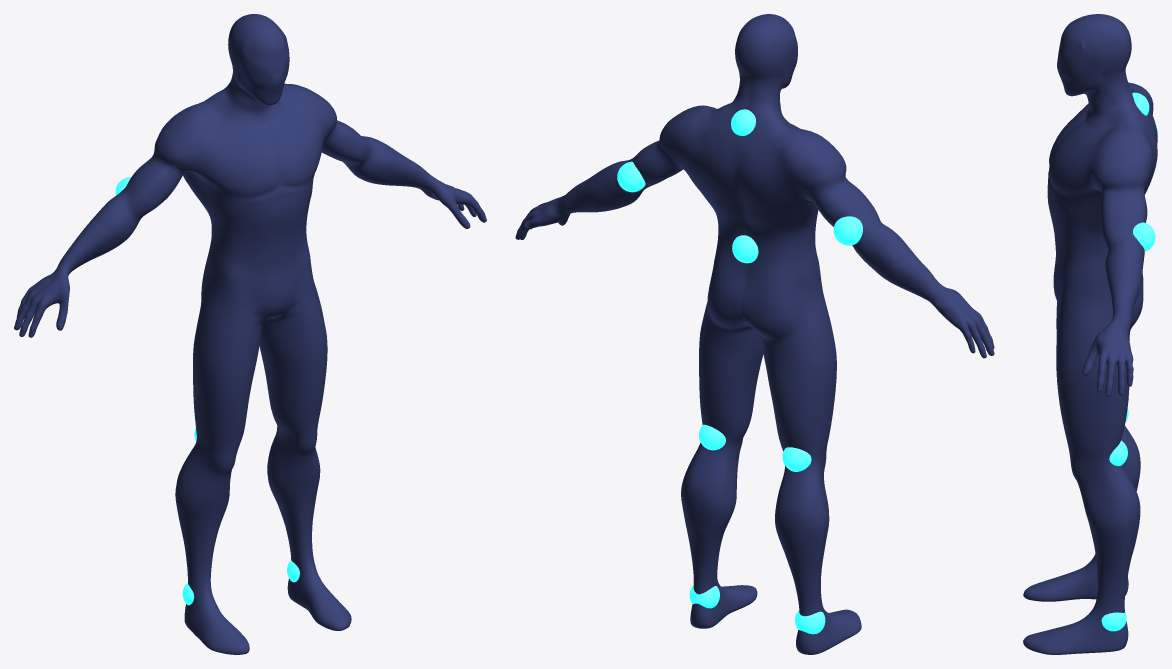
Rendered from human.glb.
3 renders of one model, left to right at view 1: azimuth 30°, elevation 25°; view 2: azimuth 150°, elevation 25°; view 3: azimuth 270°, elevation 25°, orthographic. The views are drawn at different scales.
Visible parts, largest first — view 1: Mesh_Model001_24_GTAMtl_1.0_0.0_0.001; view 2: Mesh_Model001_24_GTAMtl_1.0_0.0_0.001, Sphere, Sphere.001; view 3: Mesh_Model001_24_GTAMtl_1.0_0.0_0.001, Sphere, Sphere.001.
Part boxes in pixels (bbox=[...]): Mesh_Model001_24_GTAMtl_1.0_0.0_0.001: bbox=[14, 14, 486, 654]; Mesh_Model001_24_GTAMtl_1.0_0.0_0.001: bbox=[515, 14, 994, 654]; Sphere: bbox=[689, 109, 825, 634]; Sphere.001: bbox=[617, 161, 862, 245]; Mesh_Model001_24_GTAMtl_1.0_0.0_0.001: bbox=[1023, 14, 1157, 654]; Sphere: bbox=[1101, 92, 1149, 631]; Sphere.001: bbox=[1133, 124, 1157, 251].
Bounding box in the file's own units: 3.63 × 4.47 × 0.904.
